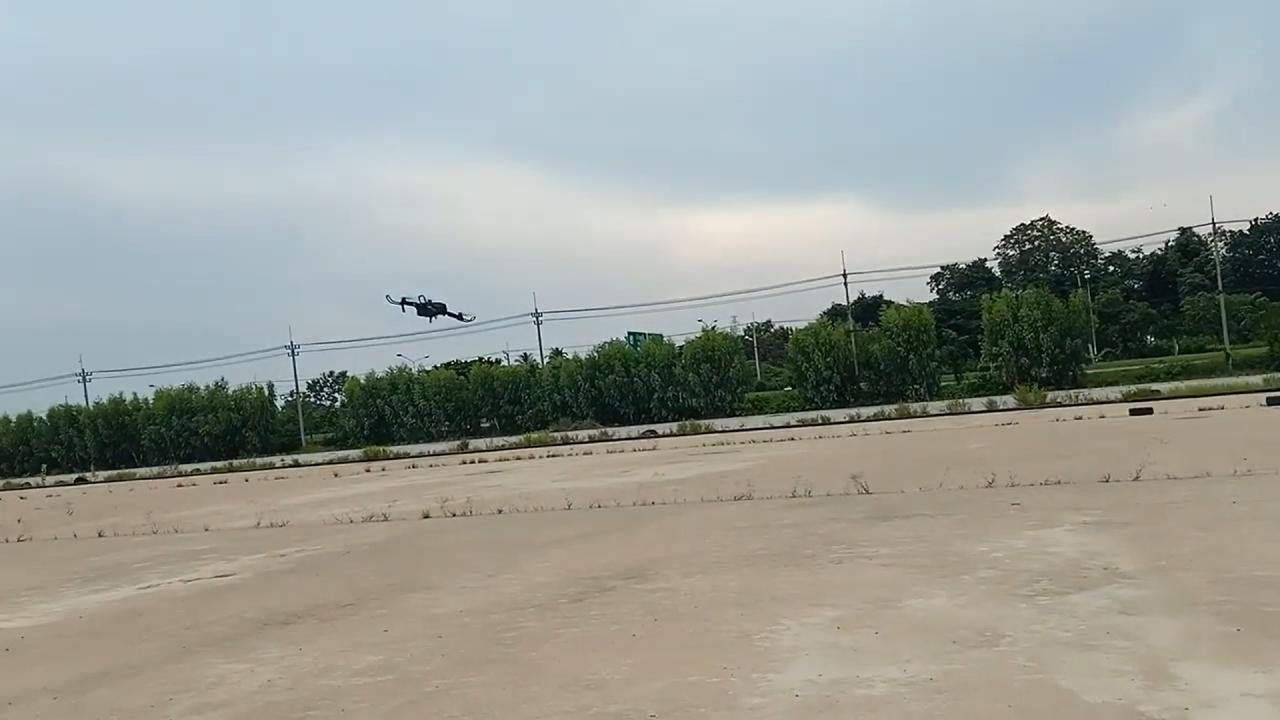Drone: (376, 287, 482, 331)
